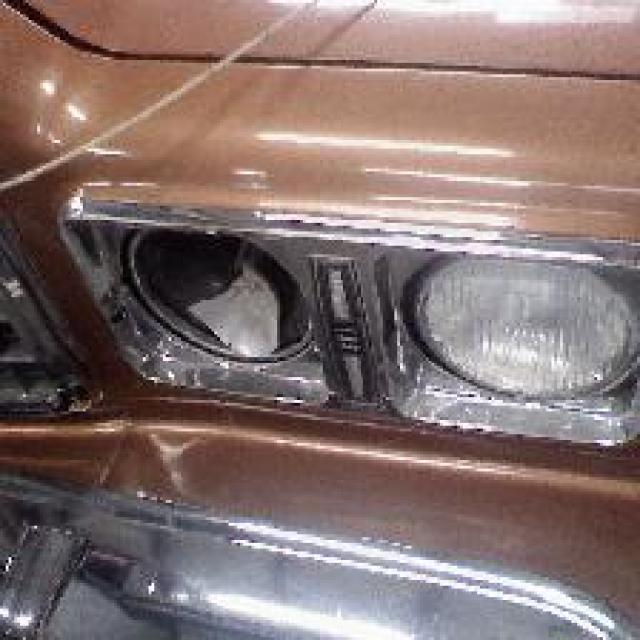damaged: (88, 220, 332, 394)
